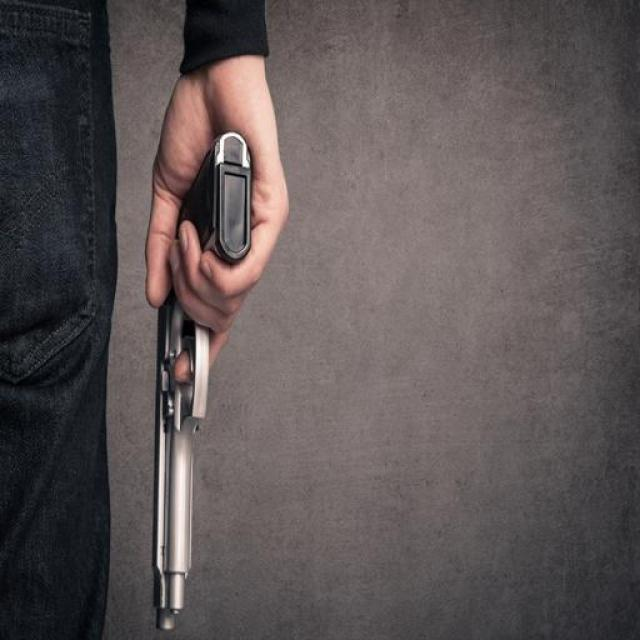pistol: (150, 131, 250, 630)
